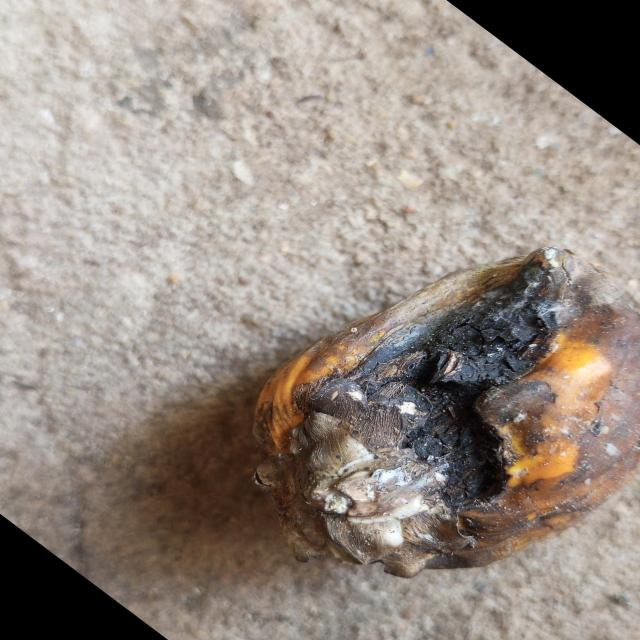damaged: (253, 250, 640, 580)
